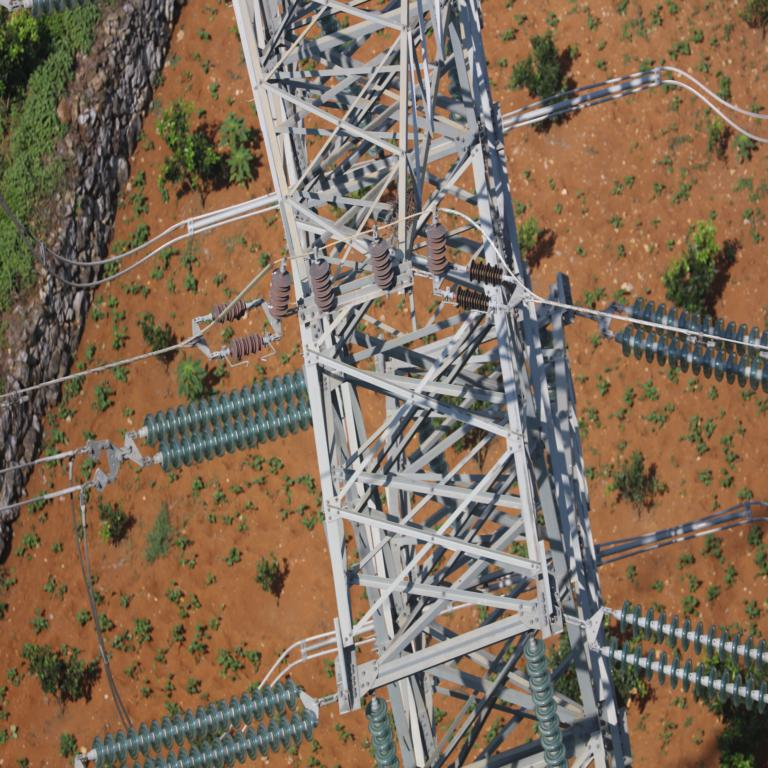nest: (388, 190, 413, 237)
